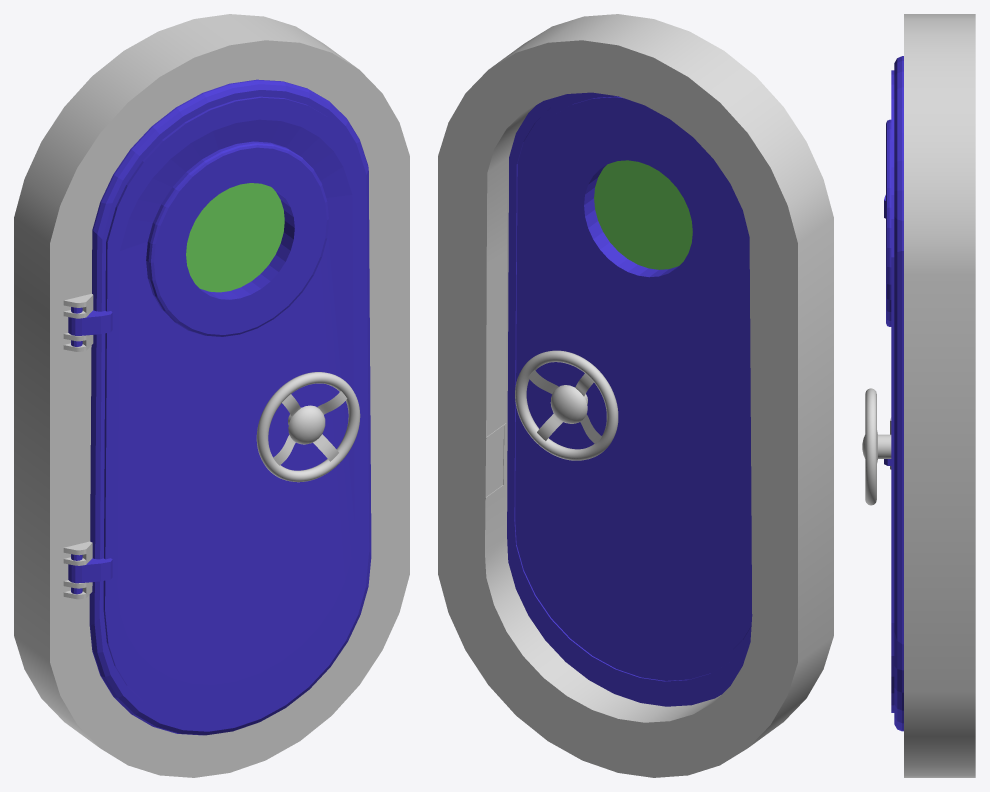
Rendered from dvere.fbx.
3 views of the same model, side by side, from view 1: azimuth 30°, elevation 25°; view 2: azimuth 150°, elevation 25°; view 3: azimuth 270°, elevation 25° (orthographic).
Visible parts, largest first — view 1: Cylinder.003, Cylinder.004, BézierCurve.002; view 2: Cylinder.004, Cylinder.003, BézierCurve.002; view 3: Cylinder.004, Cylinder.003, BézierCurve.002.
Boxes of the visible parts, <box> form: Cylinder.003: <box>68,79,371,735</box>; Cylinder.004: <box>14,14,409,777</box>; BézierCurve.002: <box>256,372,360,482</box>; Cylinder.004: <box>438,14,833,777</box>; Cylinder.003: <box>507,92,752,706</box>; BézierCurve.002: <box>515,350,618,460</box>; Cylinder.004: <box>890,14,975,777</box>; Cylinder.003: <box>884,56,903,731</box>; BézierCurve.002: <box>862,388,891,505</box>.
Bounding box in the file's own units: 144 × 278 × 39.29.
